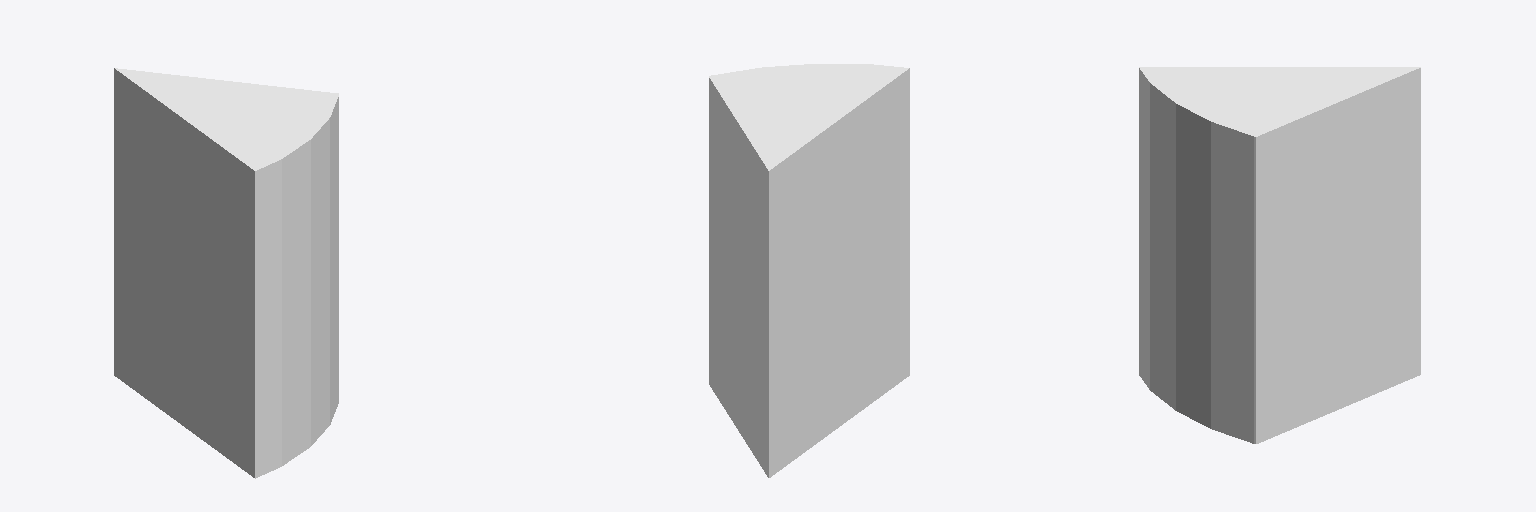
The model's file is slice1_1.obj.
The picture shows the model from 3 angles: view 1: azimuth 30°, elevation 25°; view 2: azimuth 150°, elevation 25°; view 3: azimuth 270°, elevation 25°; orthographic projection.
Parts seen in each view (by area): view 1: slice1_1_Cube.021; view 2: slice1_1_Cube.021; view 3: slice1_1_Cube.021.
Part boxes in pixels (left/top/right/bottom): slice1_1_Cube.021: left=114, top=68, right=338, bottom=478; slice1_1_Cube.021: left=709, top=64, right=909, bottom=477; slice1_1_Cube.021: left=1139, top=67, right=1420, bottom=443.
Size of the model in its own units: 0.583 by 1.2 by 0.9978.